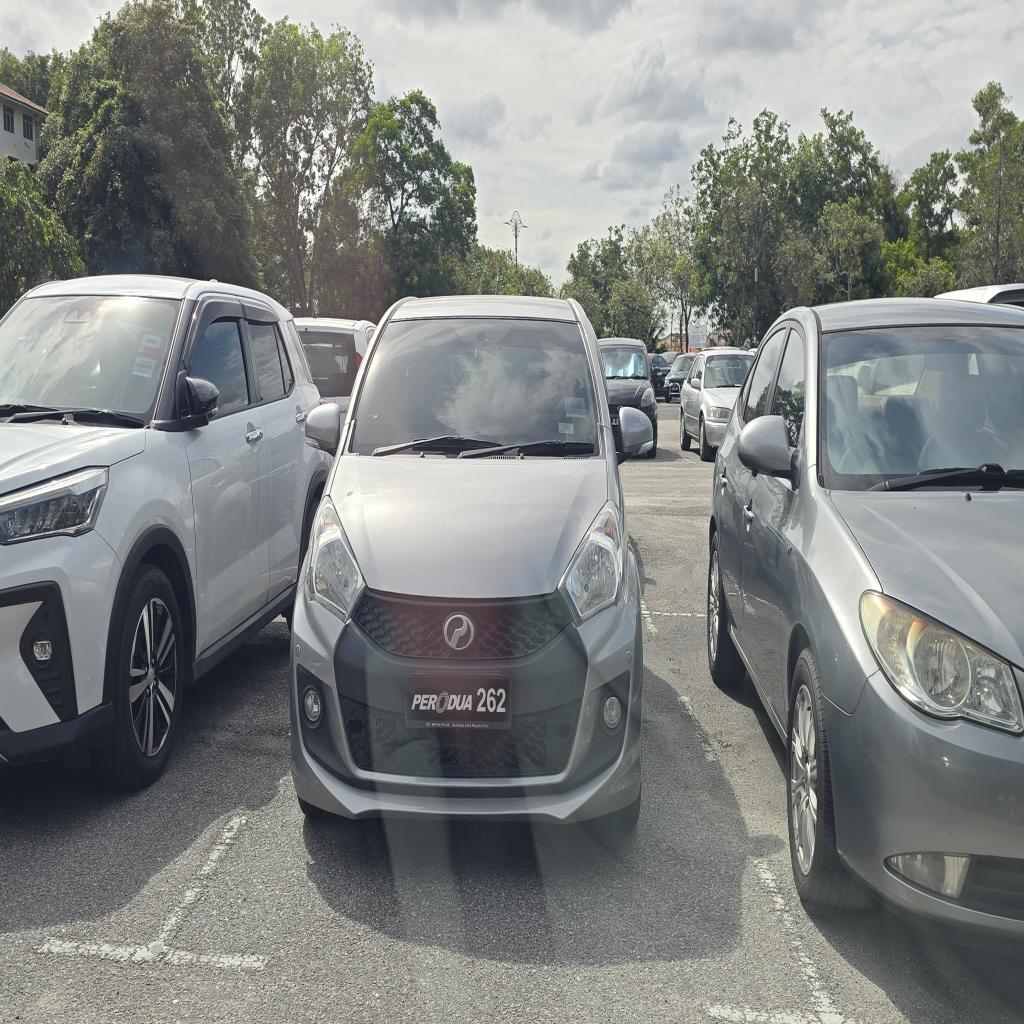car: (291, 297, 642, 827)
car plate: (406, 675, 510, 728)
